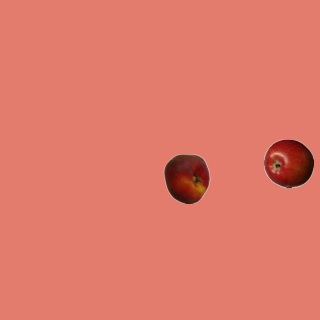Apple Braeburn: (263, 138, 313, 188)
Nectarine Flat: (161, 153, 211, 203)
